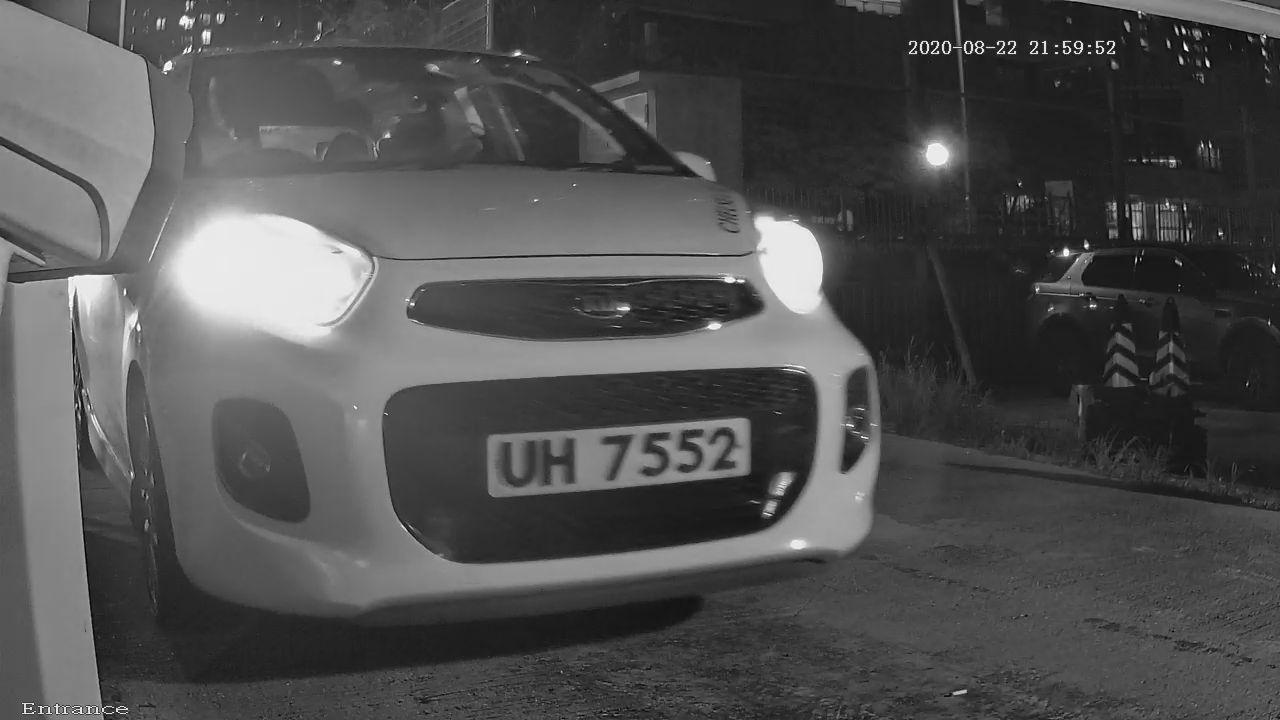Car: (12, 13, 932, 682)
License Plate: (417, 371, 783, 541)
